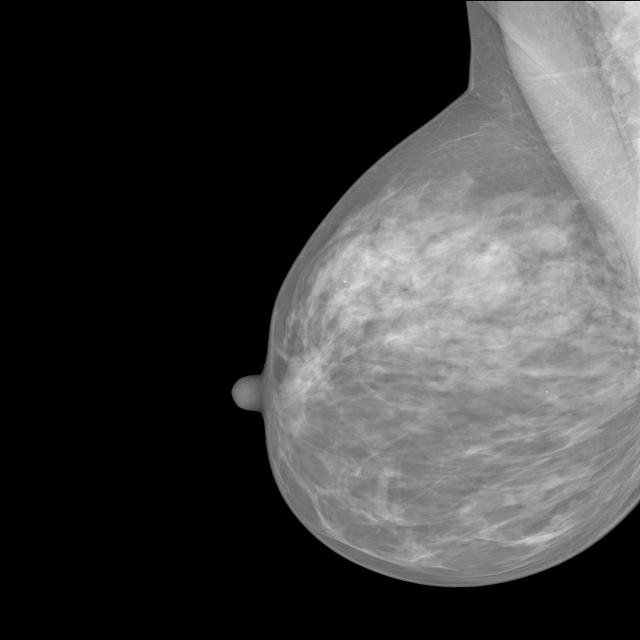Mass_1: (518, 218, 586, 272)
